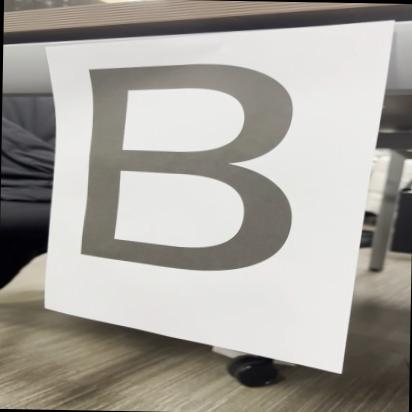seat: (63, 58, 310, 279)
